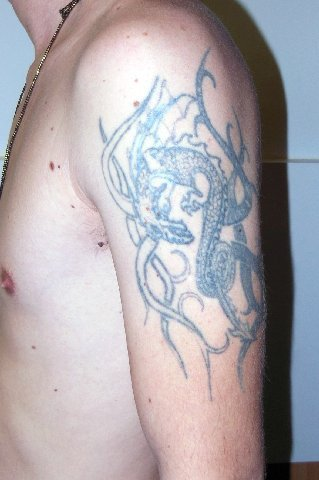tatu7_zmeya: (93, 44, 274, 401)
